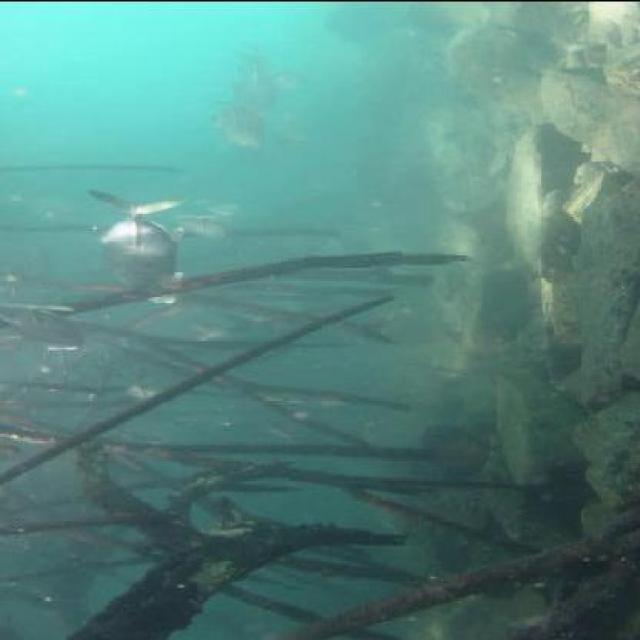Caranx_sexfasciatus_juvenile: (76, 198, 206, 299), (218, 41, 296, 110), (8, 299, 90, 359), (212, 98, 282, 151), (172, 204, 246, 244), (111, 372, 184, 405)
